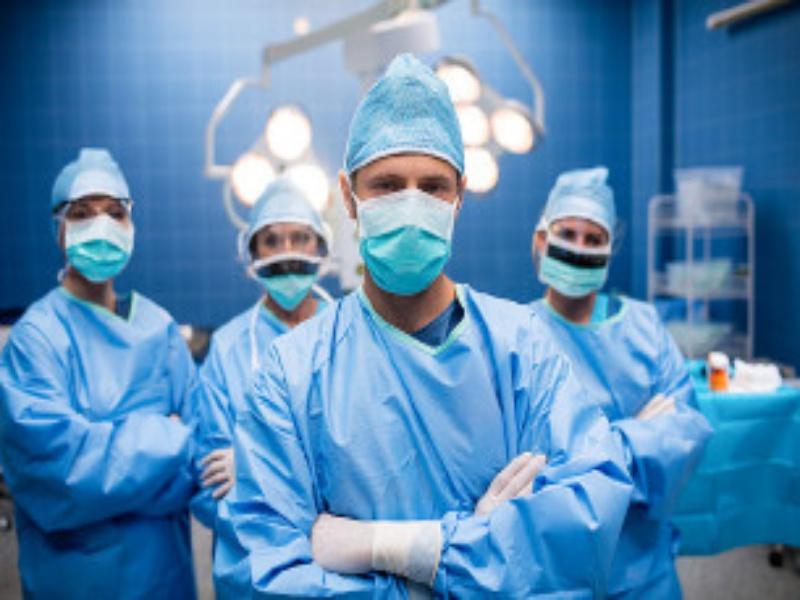mask: (333, 62, 479, 298), (525, 156, 618, 294), (49, 142, 140, 280), (238, 173, 331, 308)
